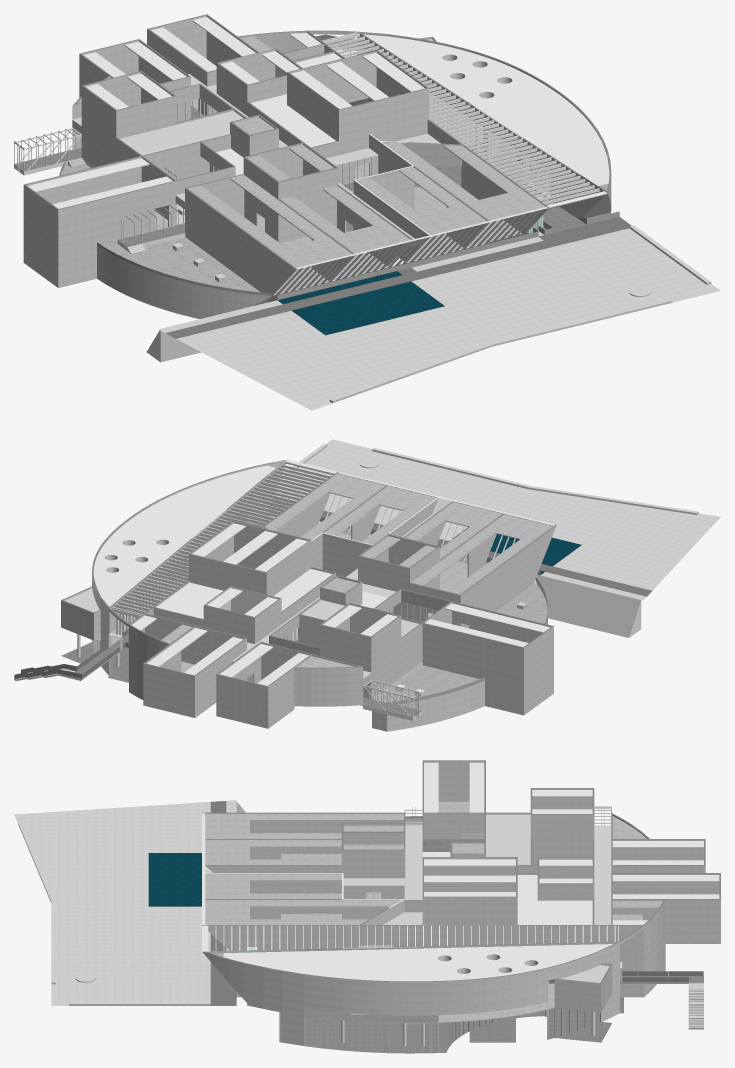
File: muac.gltf
3 views of the same model, one above another, from view 1: azimuth 30°, elevation 25°; view 2: azimuth 150°, elevation 25°; view 3: azimuth 270°, elevation 25° (orthographic). The views are drawn at different scales.
Visible parts, largest first — view 1: MUAC para web; view 2: MUAC para web; view 3: MUAC para web.
Boxes of the visible parts, x1,y1,x2,y2 form: MUAC para web: [14, 14, 720, 410]; MUAC para web: [14, 439, 720, 731]; MUAC para web: [14, 760, 720, 1053].
Size of the model in its own units: 102 by 21.61 by 137.
Materials: 35 (14 with a texture image).
